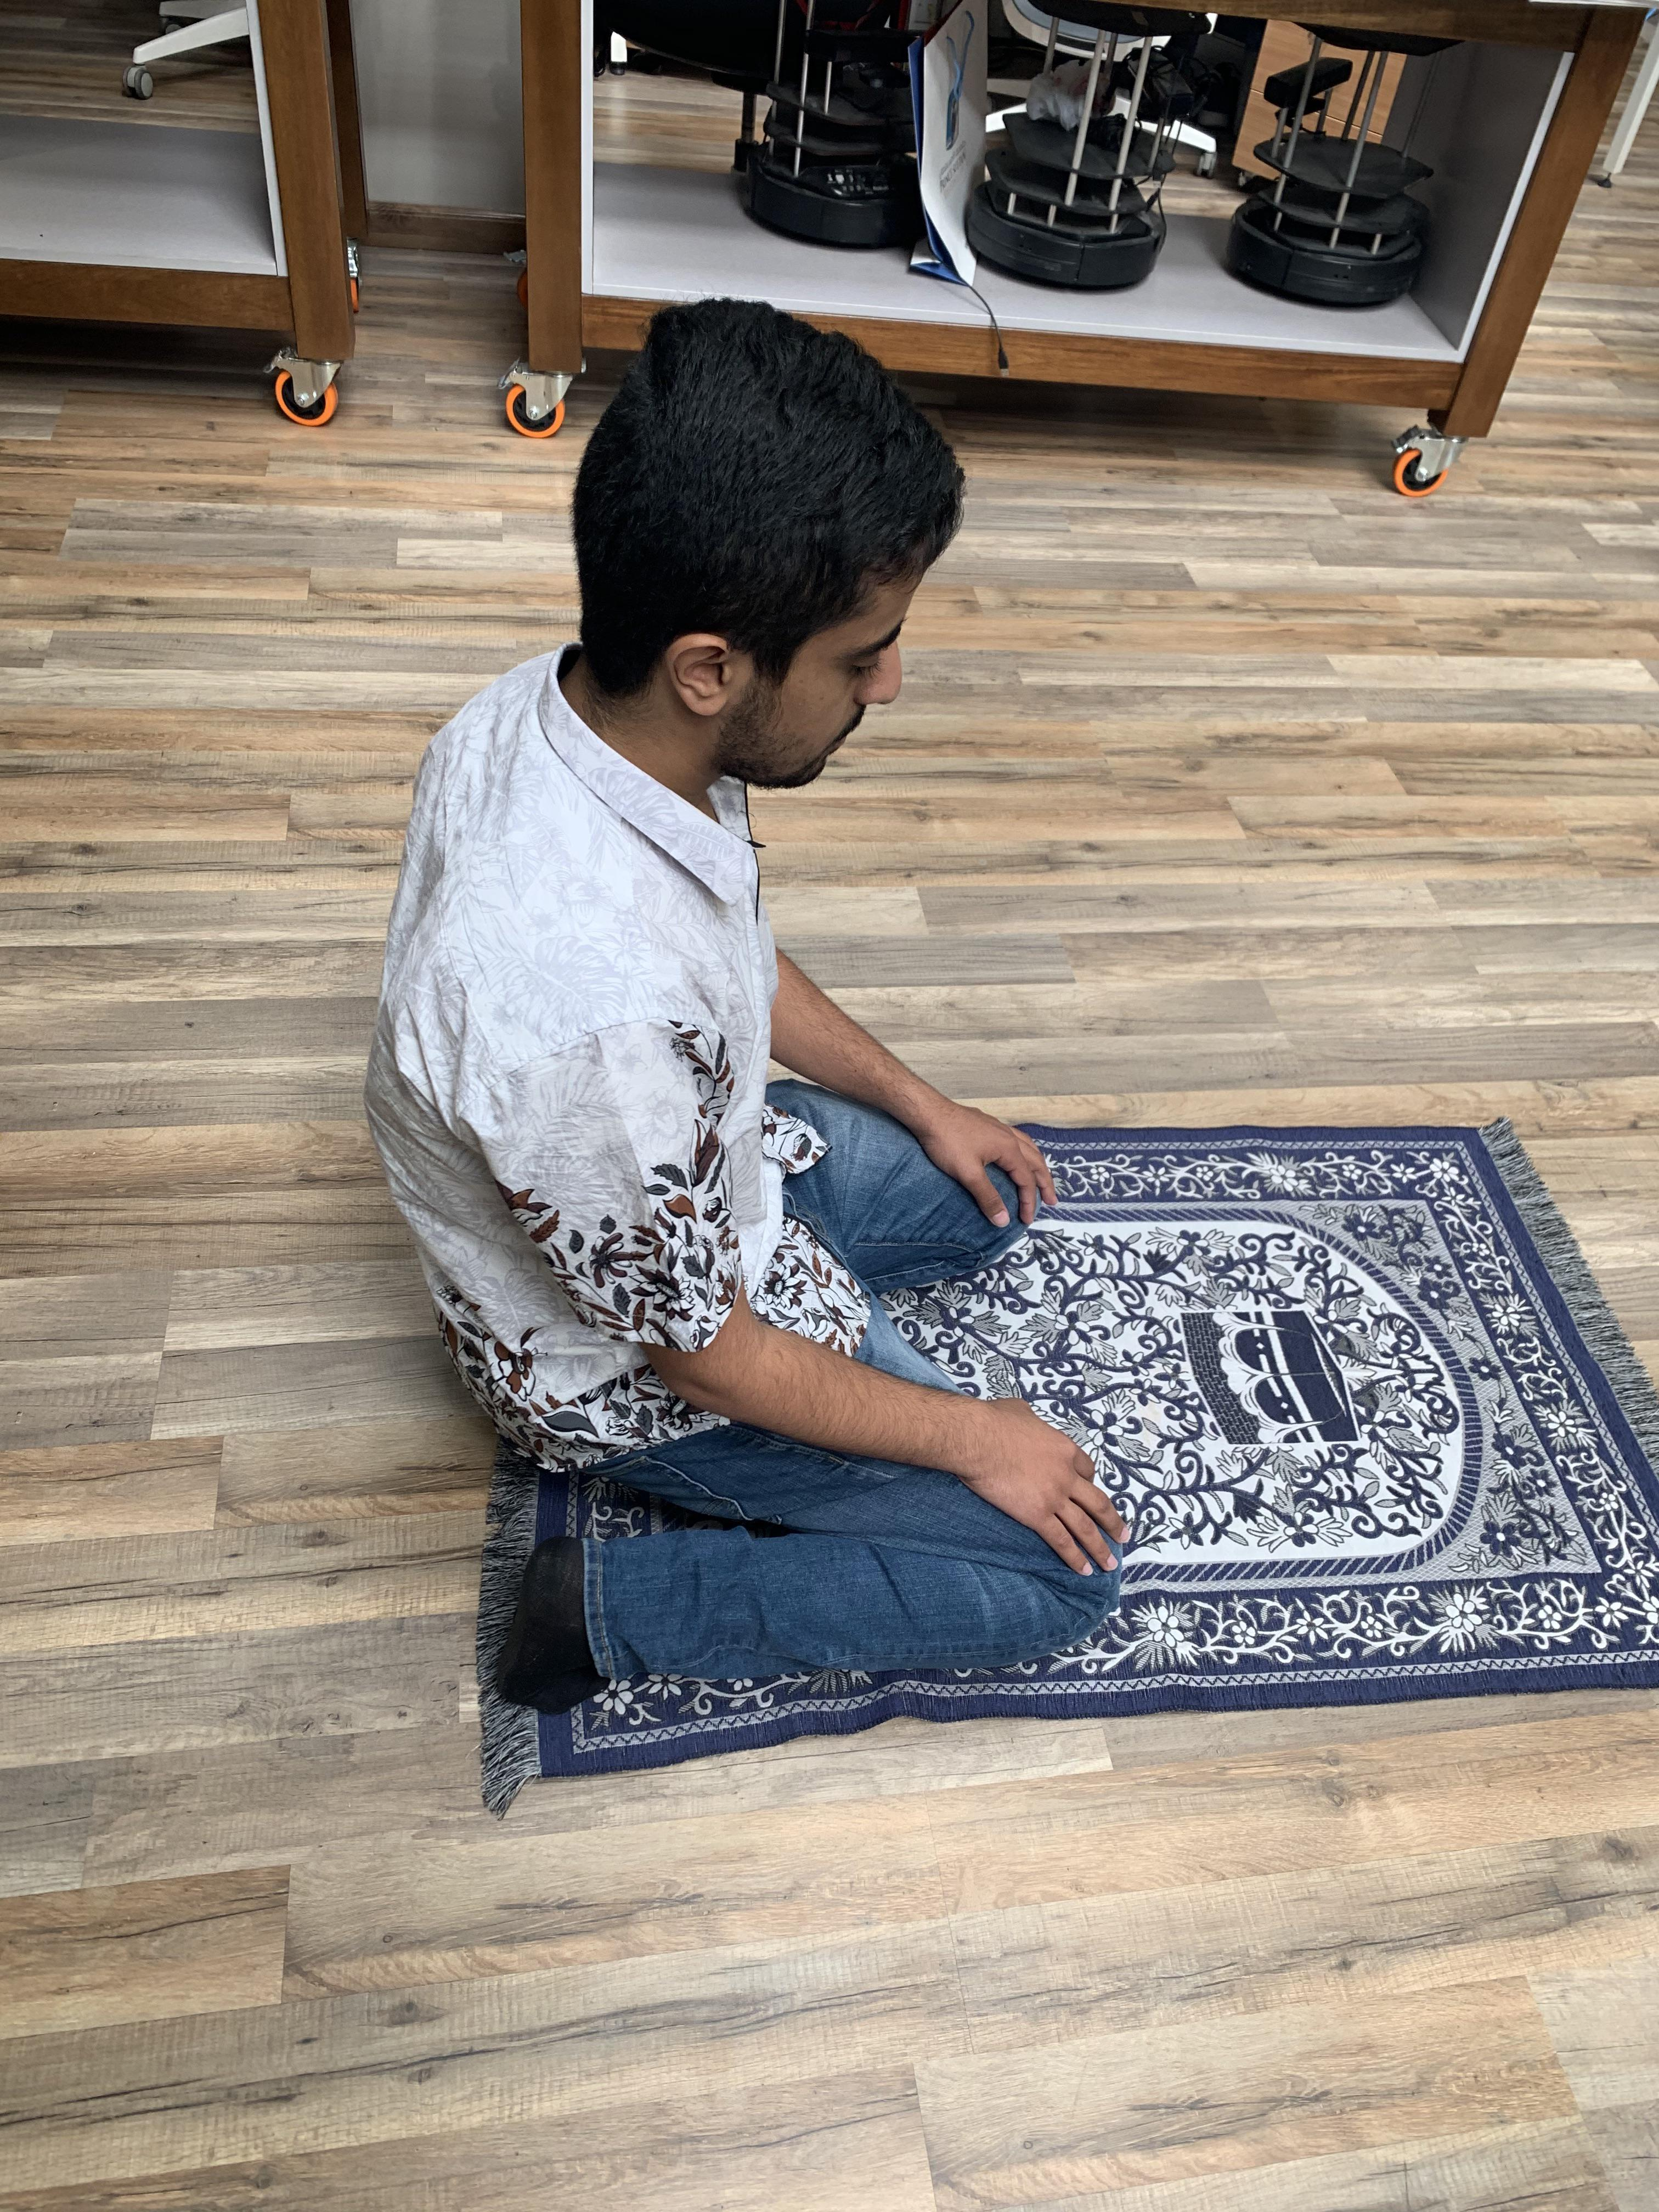julus: (361, 296, 1143, 1716)
